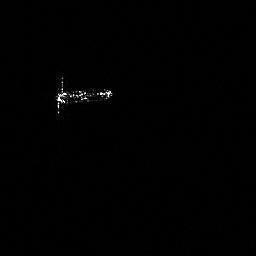ship: (50, 78, 118, 116)
